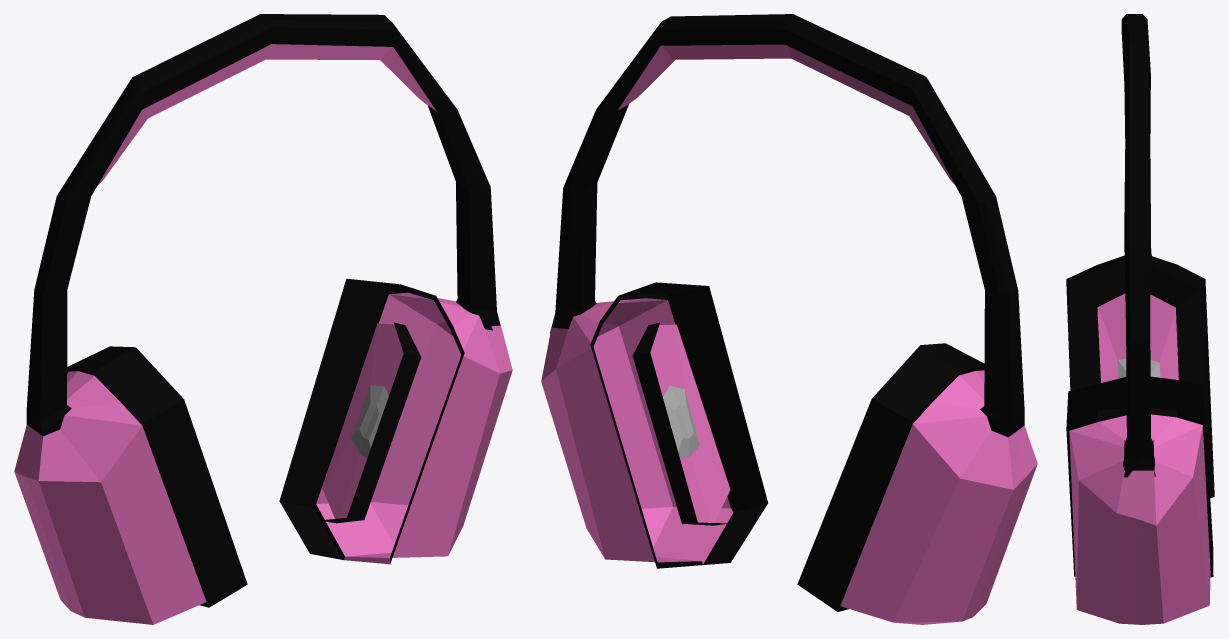
The model's file is headphone.fbx.
3 views of the same model, side by side, from view 1: azimuth 30°, elevation 25°; view 2: azimuth 150°, elevation 25°; view 3: azimuth 270°, elevation 25° (orthographic). The views are drawn at different scales.
Parts seen in each view (by area): view 1: Cube; view 2: Cube; view 3: Cube.
Boxes of the visible parts, left/top/right/bottom form: Cube: left=14, top=14, right=512, bottom=624; Cube: left=541, top=14, right=1037, bottom=624; Cube: left=1066, top=14, right=1214, bottom=624.
Size of the model in its own units: 2774 by 3194 by 827.
